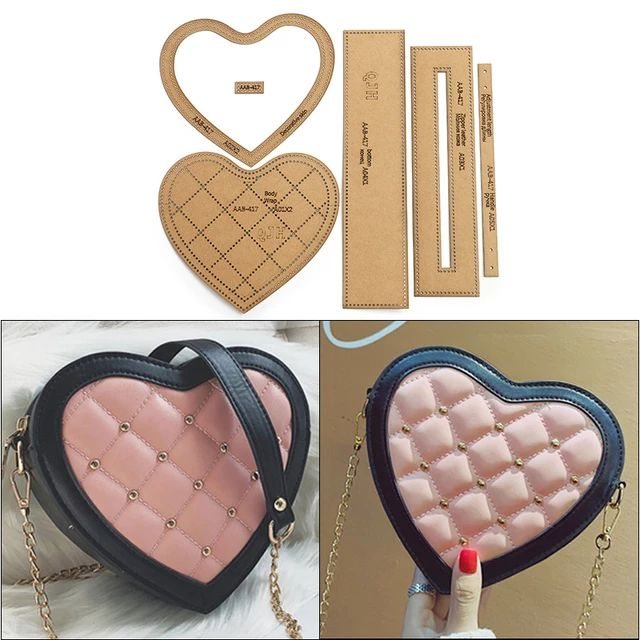cuero: (15, 339, 626, 617)
